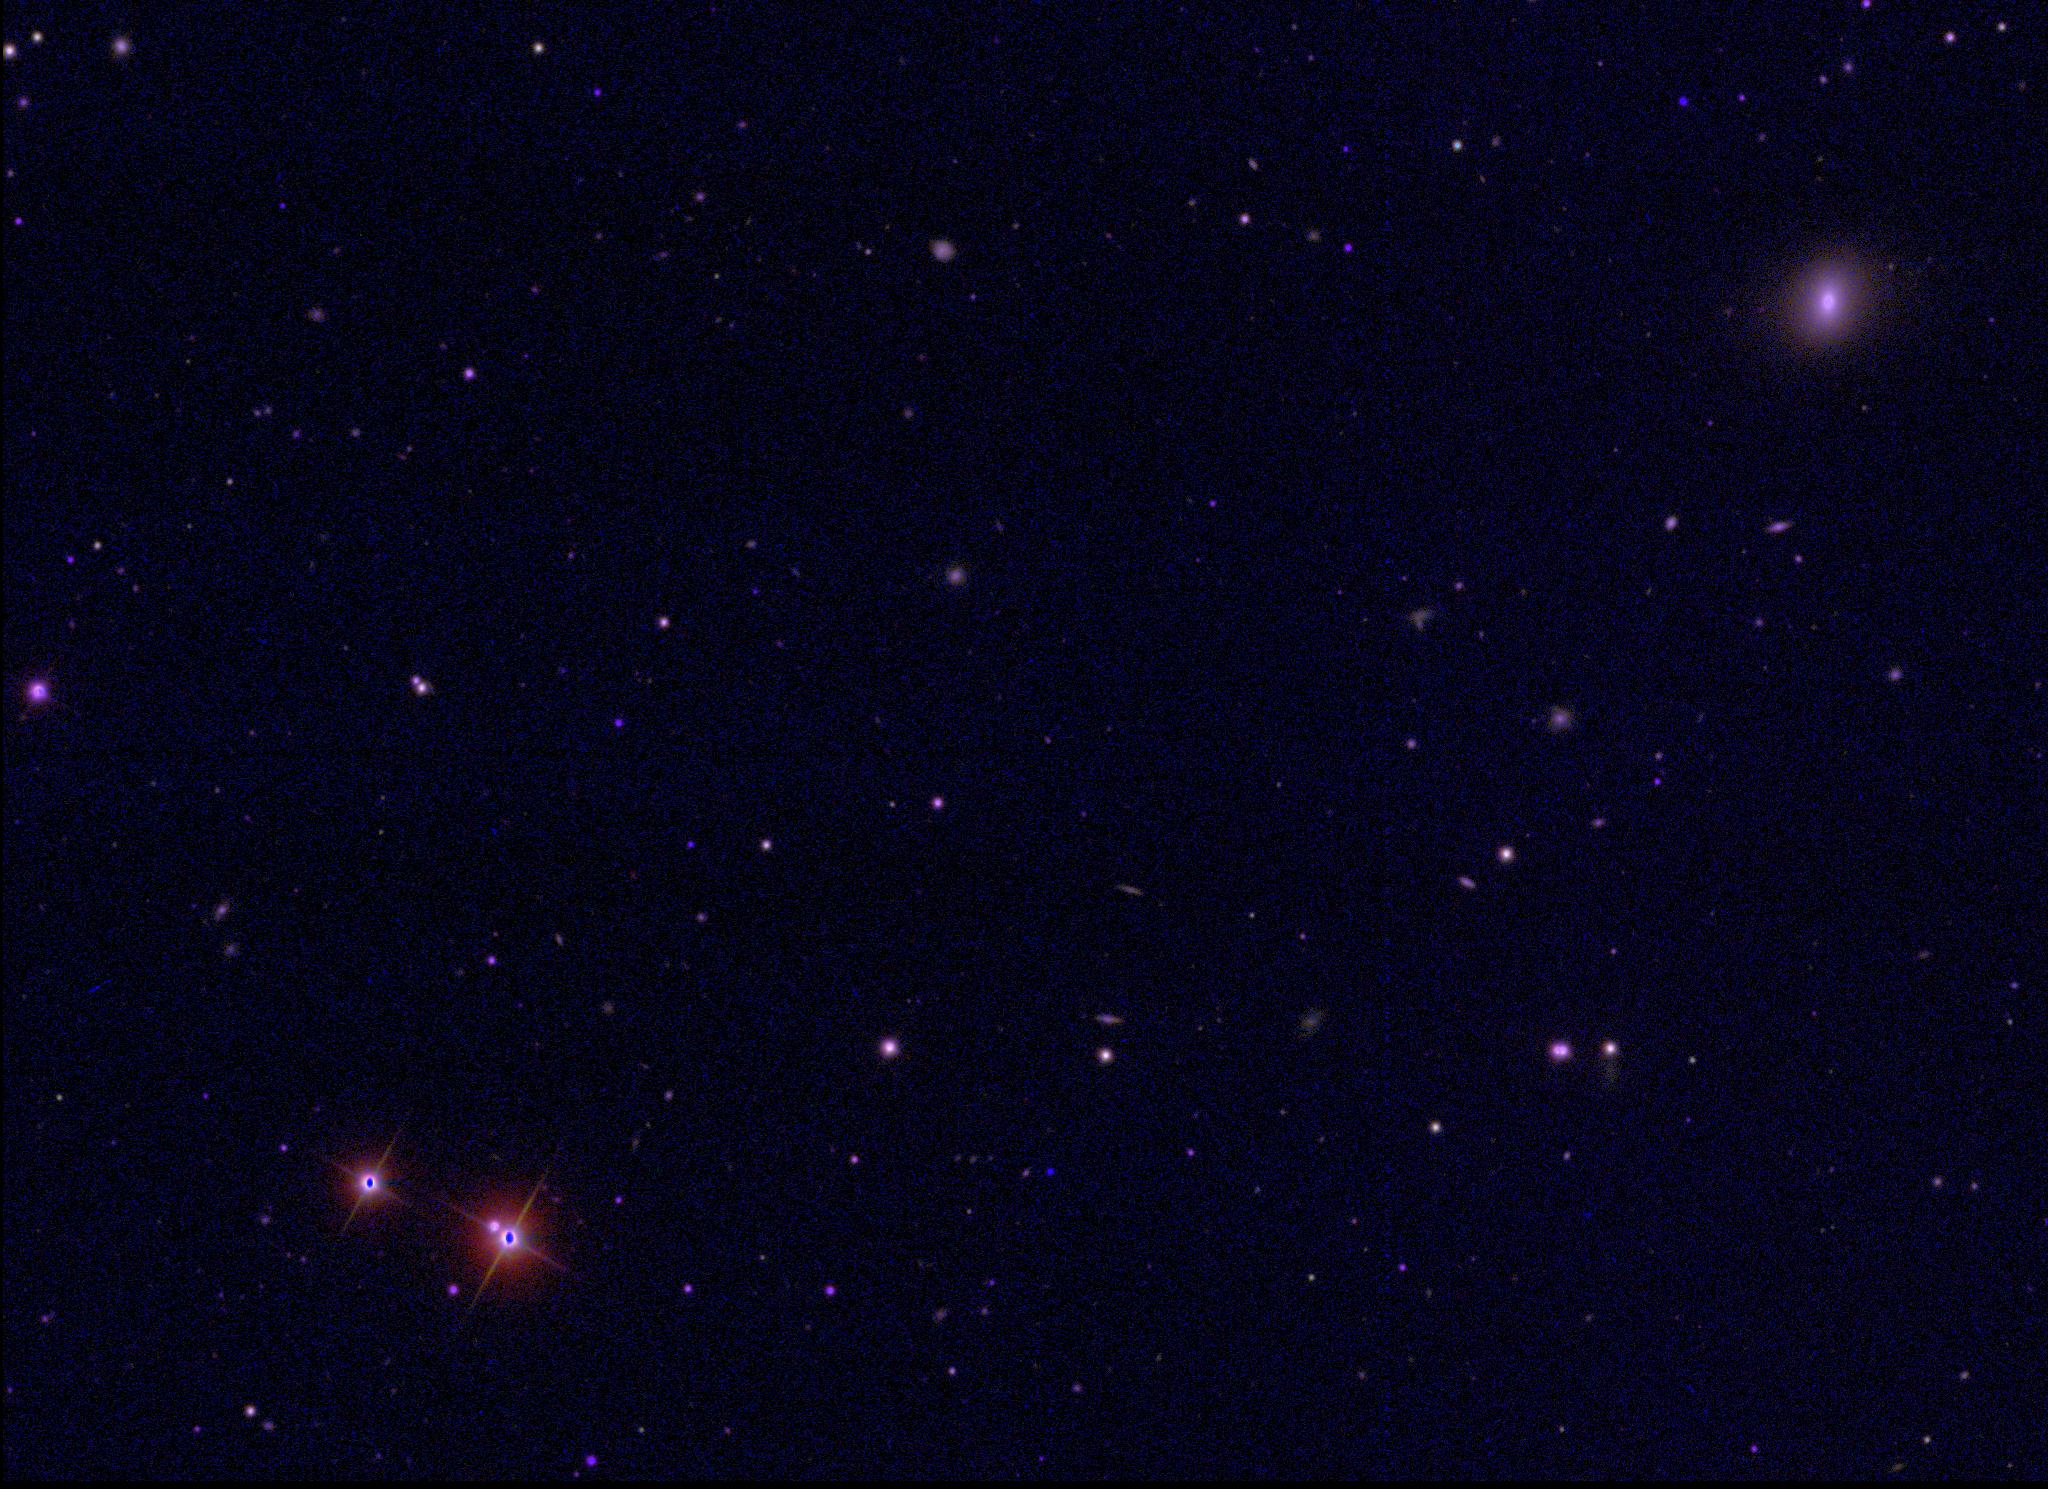L: (1043, 1164, 1057, 1179)
